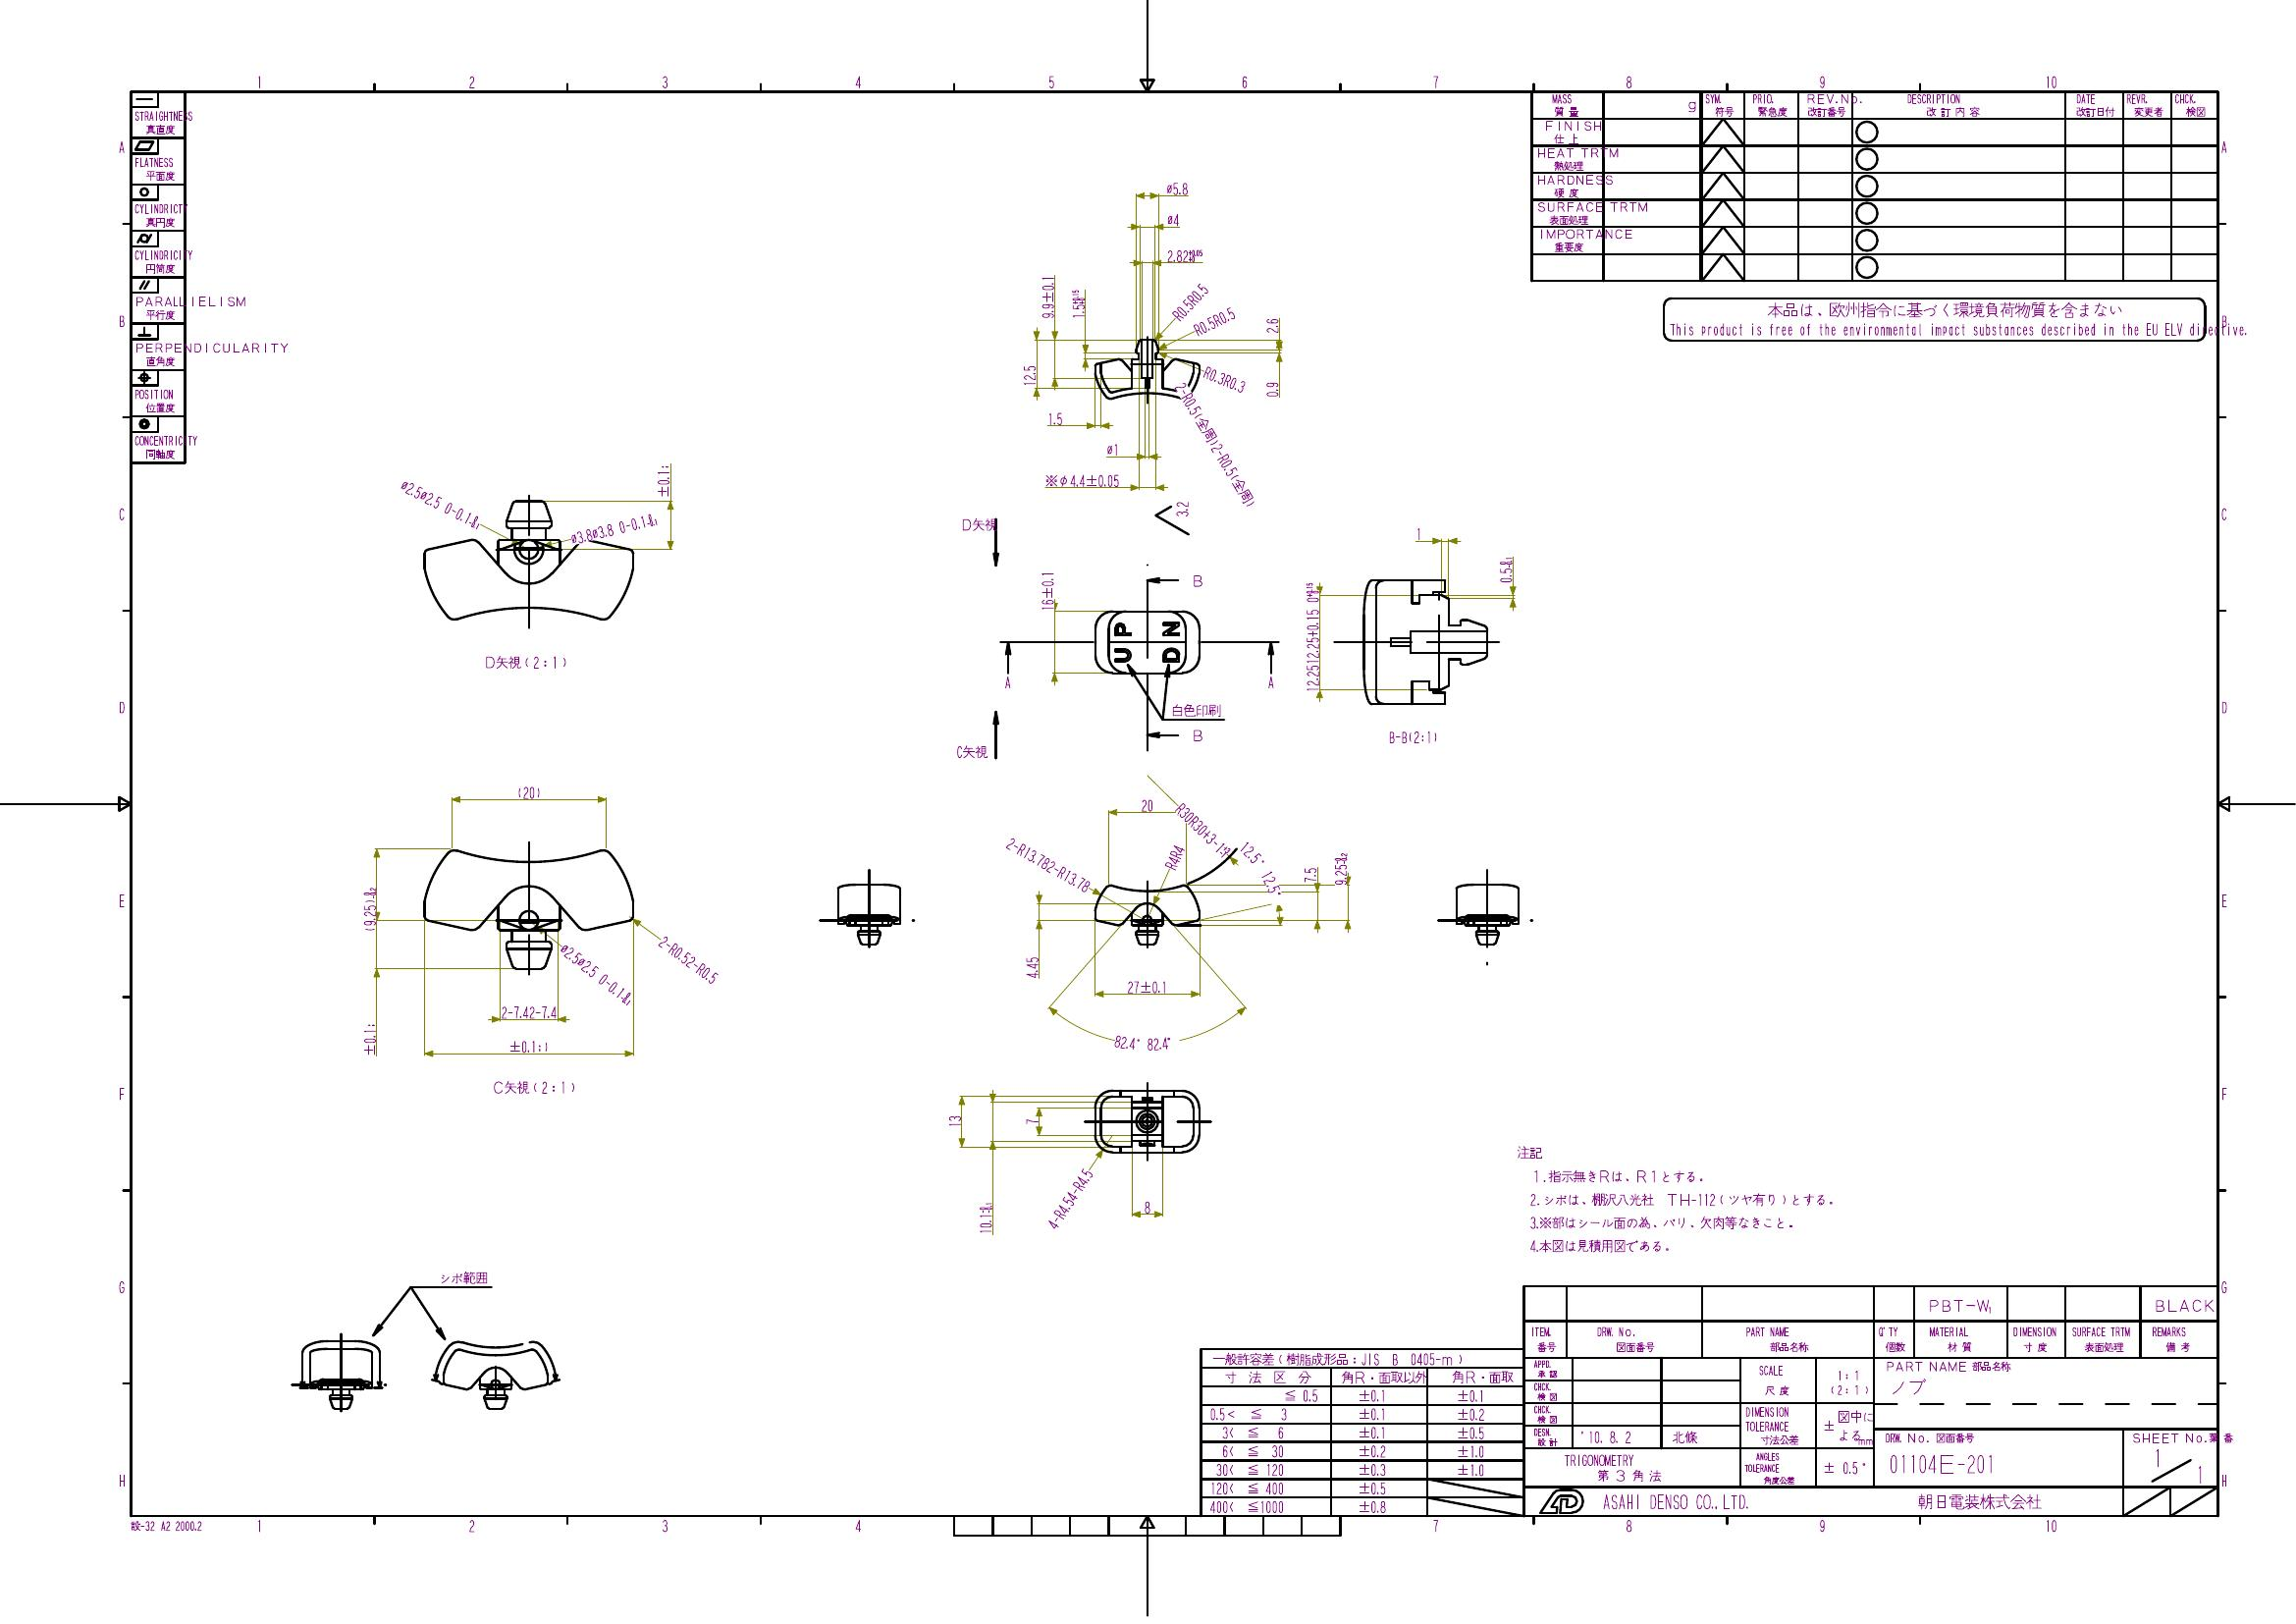anntotation_text: (1514, 1137, 1841, 1258), (1664, 297, 2206, 341), (478, 645, 574, 673), (487, 1074, 580, 1098), (130, 1513, 204, 1536), (1383, 724, 1446, 749), (1166, 700, 1224, 719), (950, 740, 989, 765), (437, 1269, 490, 1285), (957, 513, 996, 533), (1198, 411, 1214, 446), (1237, 473, 1251, 508), (1188, 568, 1205, 589), (1188, 726, 1205, 745), (1263, 671, 1279, 692), (998, 675, 1015, 691)
dimension_text: (1302, 580, 1319, 691), (1003, 856, 1100, 872), (553, 967, 646, 982), (1061, 1164, 1082, 1232), (1042, 471, 1123, 489), (569, 520, 657, 536), (1251, 833, 1270, 902), (650, 953, 733, 968), (1112, 1030, 1173, 1051), (390, 497, 487, 510), (1163, 824, 1242, 838), (1119, 974, 1175, 993), (497, 1002, 559, 1018), (1036, 271, 1056, 320), (358, 884, 378, 933), (508, 1035, 552, 1055), (1202, 371, 1249, 388), (1036, 568, 1054, 613), (1163, 244, 1203, 264), (1166, 294, 1219, 308), (1191, 311, 1242, 325), (973, 1199, 993, 1236), (1326, 851, 1347, 884), (652, 459, 669, 497), (1217, 441, 1233, 478), (1161, 178, 1191, 197), (511, 780, 541, 800), (1179, 380, 1195, 415), (1017, 359, 1036, 387), (360, 1019, 374, 1056), (1022, 951, 1038, 982), (1497, 554, 1513, 584), (1070, 285, 1084, 318), (1165, 842, 1180, 870), (1296, 861, 1316, 884), (1173, 494, 1191, 518), (1042, 408, 1065, 425), (1263, 376, 1281, 399), (1263, 311, 1279, 336), (943, 1111, 963, 1130), (1137, 796, 1158, 810), (1163, 211, 1182, 225), (1103, 441, 1119, 457), (1412, 524, 1425, 540), (1140, 1195, 1151, 1213), (1022, 1116, 1036, 1128)
object: (422, 849, 632, 972), (423, 499, 632, 620), (1363, 578, 1488, 705), (432, 1341, 557, 1410), (1094, 882, 1203, 944), (1094, 610, 1200, 673), (1094, 1090, 1200, 1153), (1094, 337, 1202, 399), (300, 1341, 379, 1410), (1455, 882, 1518, 946), (838, 882, 899, 944)
title_block: (1198, 1283, 2217, 1517), (1530, 90, 2217, 281), (130, 90, 186, 462)
